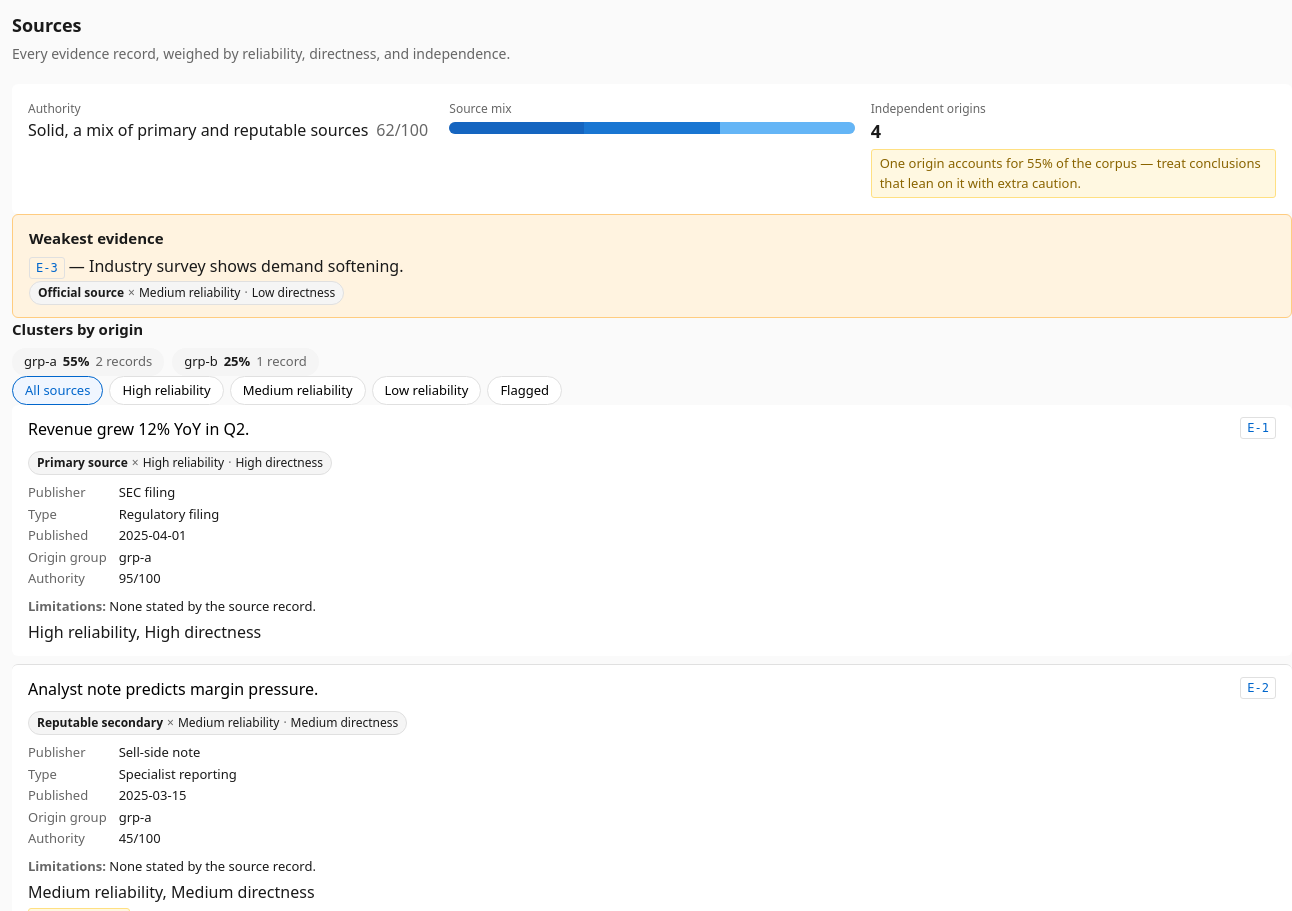
Scenario: Sources room › filters sources by reliability
expect the text "Revenue grew 12% YoY in Q2." is shown: met, box [28,418,249,440]
What coordinates should you click on to do the following:
click the button "High reliability"
I would click on:
 (166, 390)
Its box is [109,376,224,405].
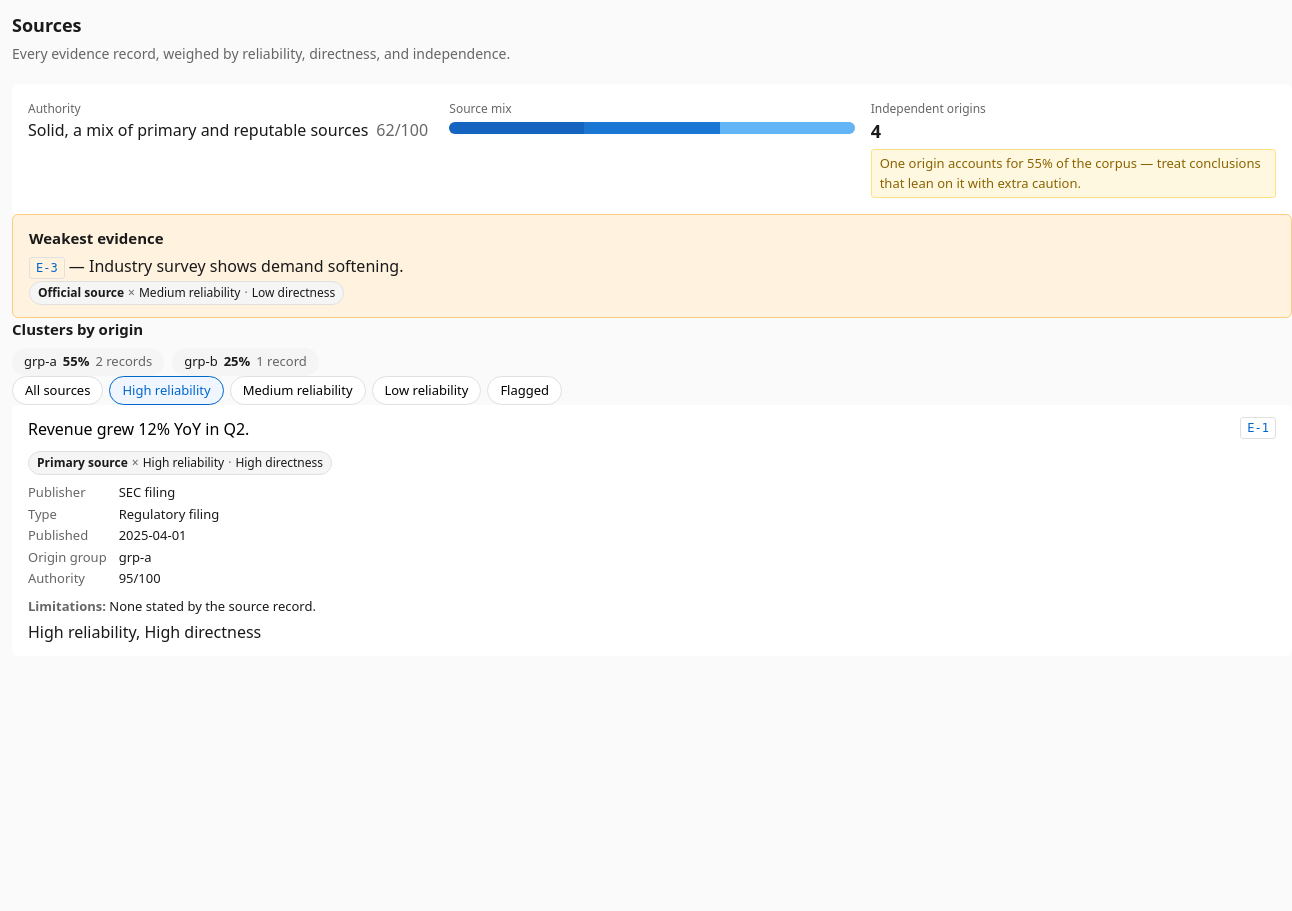
expect the text "Revenue grew 12% YoY in Q2." is shown: met, box [28,418,249,440]
expect the button "Analyst note predicts margin pressure." is gone: met
